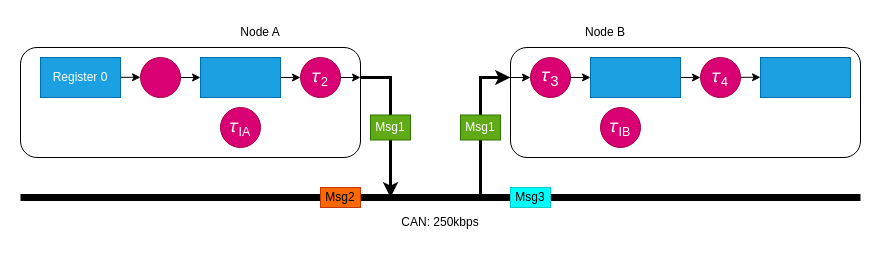
The diagram is 882 pixels wide and 254 high, and some of its shapes have lost their labels. Here are the shapes that lost their labels. From the top down, the centre of each, then its label:
At point 160,77: "𝜏 1".
At point 240,77: "Register 1".
At point 635,77: "Register 2".
At point 805,77: "Register 3".
